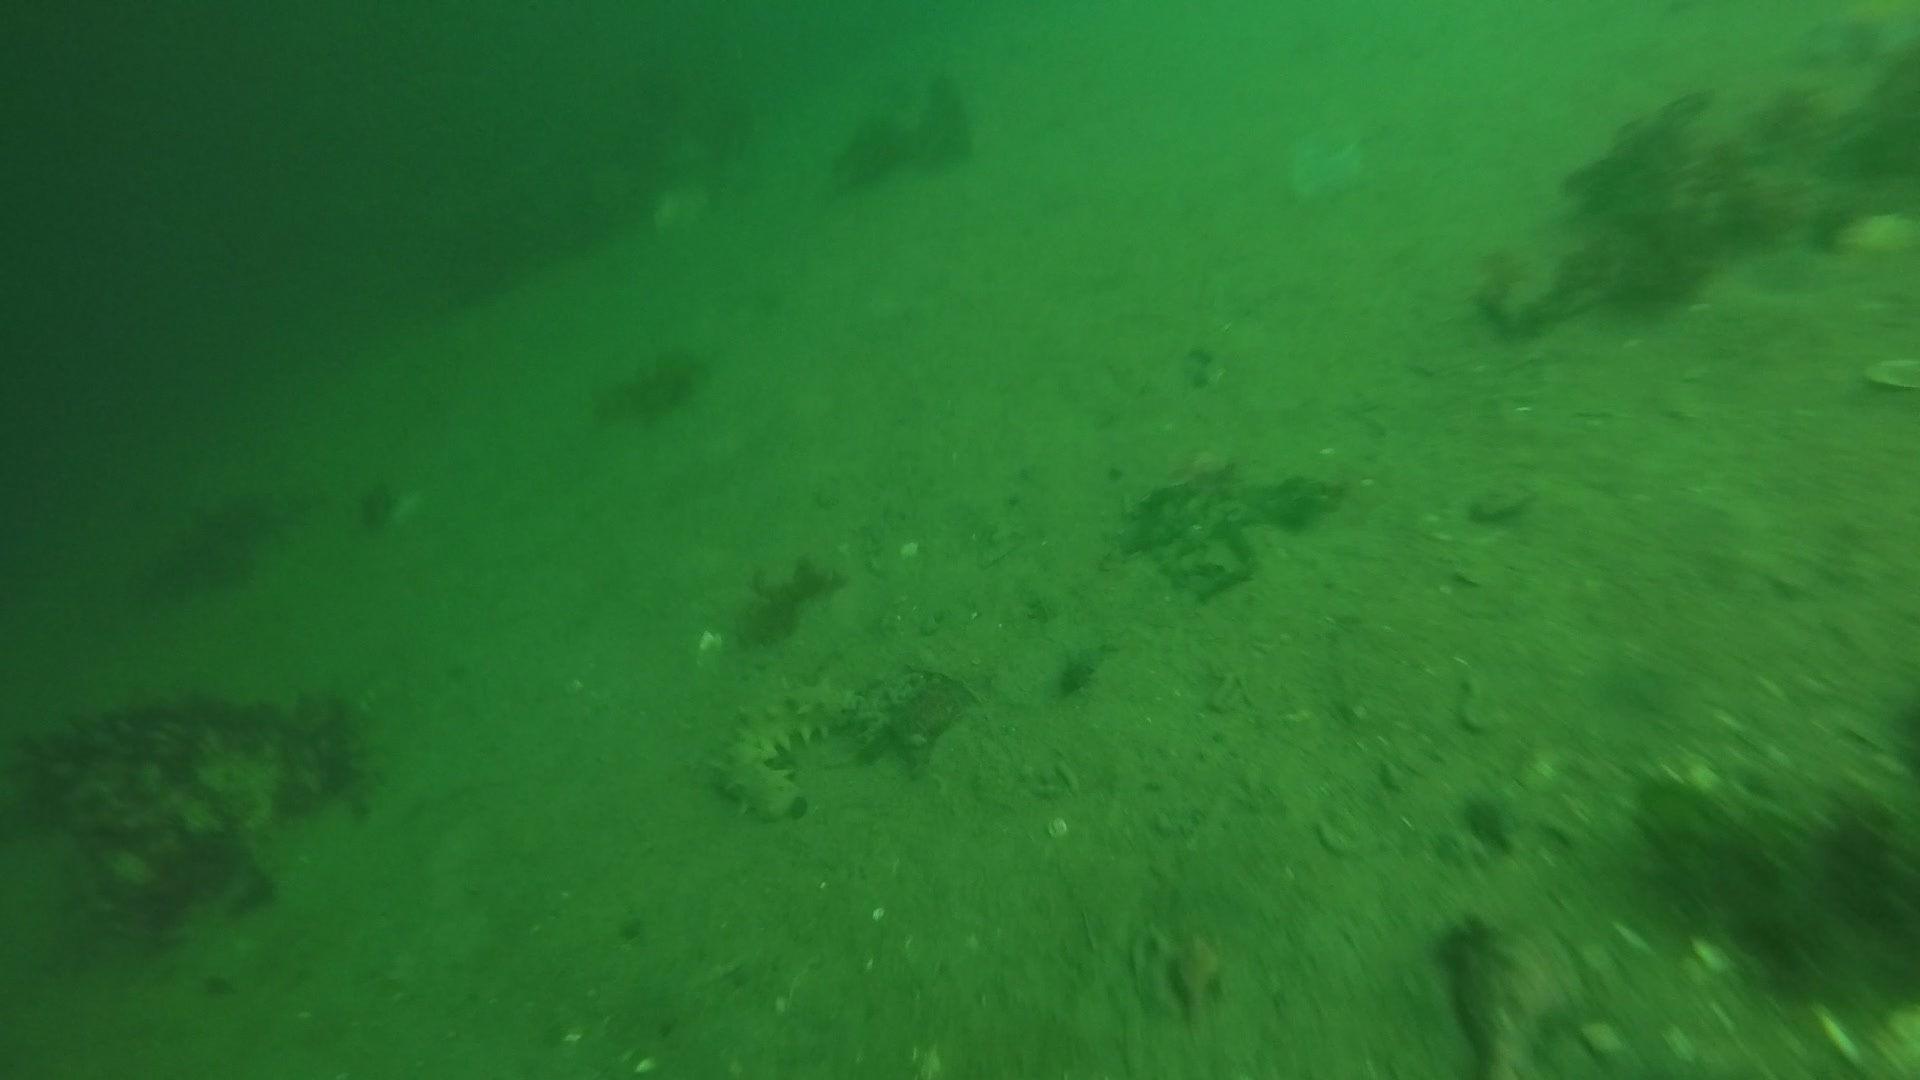holothurian: (9, 688, 375, 833), (50, 742, 287, 957), (709, 673, 872, 825)
